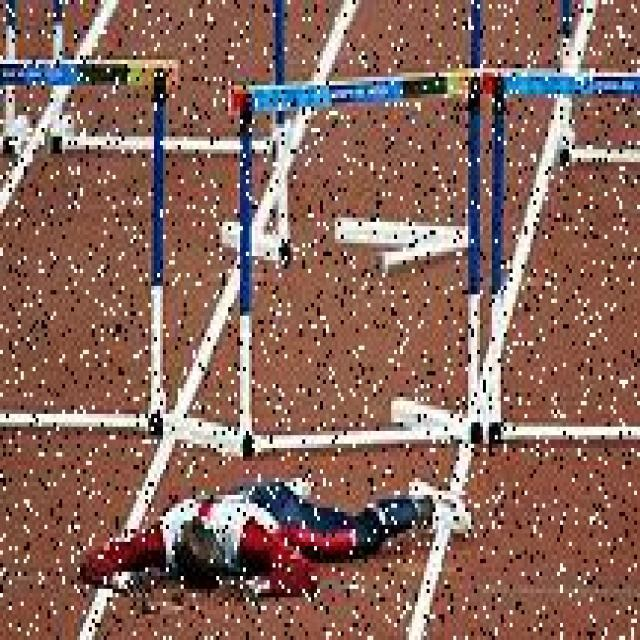fall: (68, 461, 474, 597)
